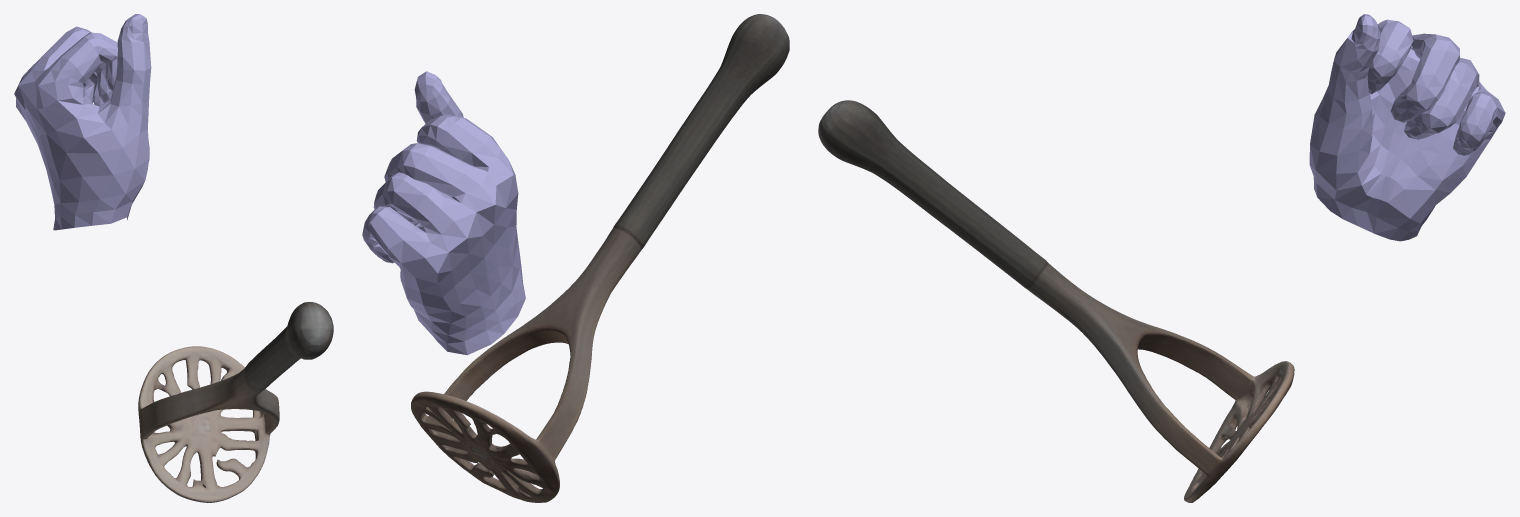
File: frame_0076_source_000076_hand_object.glb
3 renders of one model, left to right at view 1: azimuth 30°, elevation 25°; view 2: azimuth 150°, elevation 25°; view 3: azimuth 270°, elevation 25°, orthographic. The views are drawn at different scales.
Parts seen in each view (by area): view 1: world; view 2: world; view 3: world.
Boxes of the visible parts, x1,y1,x2,y2 form: world: [14, 14, 333, 502]; world: [362, 14, 789, 502]; world: [818, 14, 1505, 502].
Size of the model in its own units: 0.0961 by 0.2516 by 0.3266.
